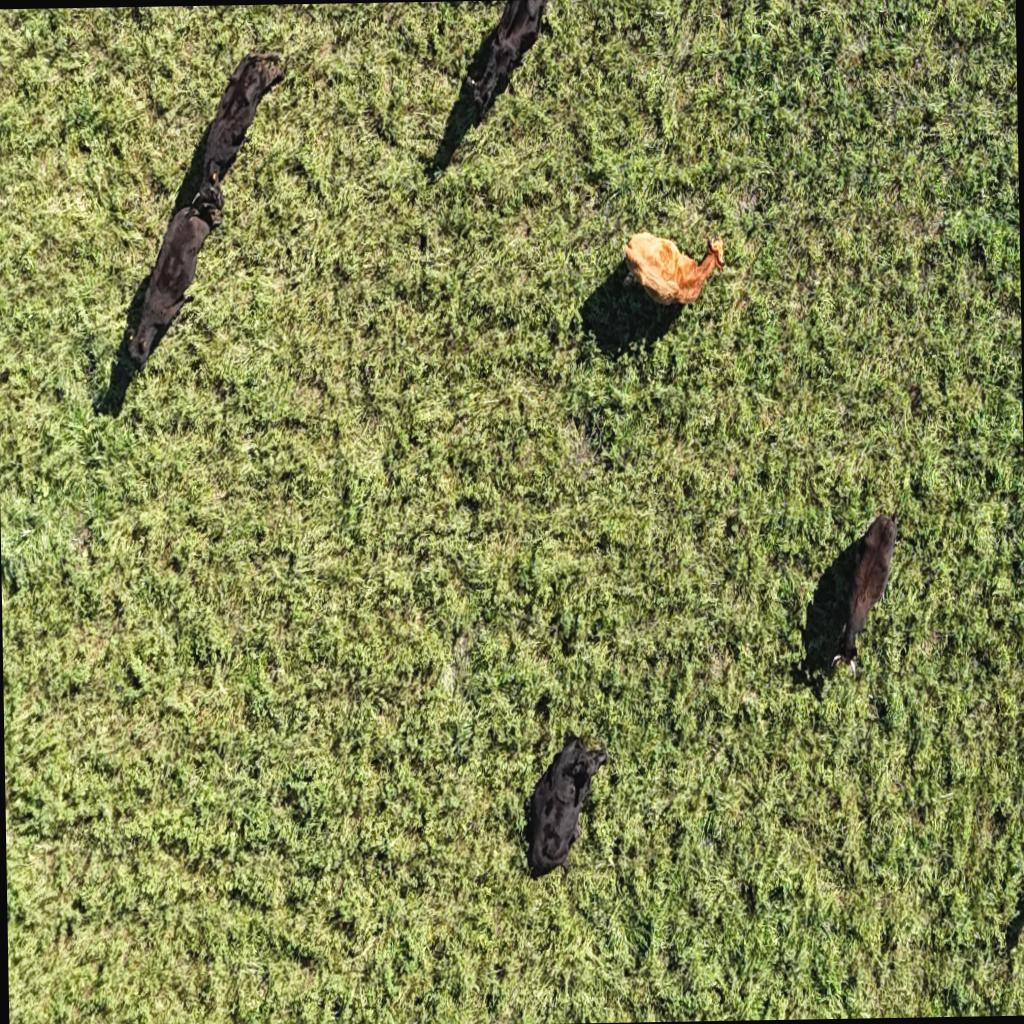cow: (78, 198, 272, 428), (164, 4, 302, 236), (788, 481, 905, 731), (412, 0, 574, 176), (495, 709, 632, 883), (594, 195, 727, 328)
